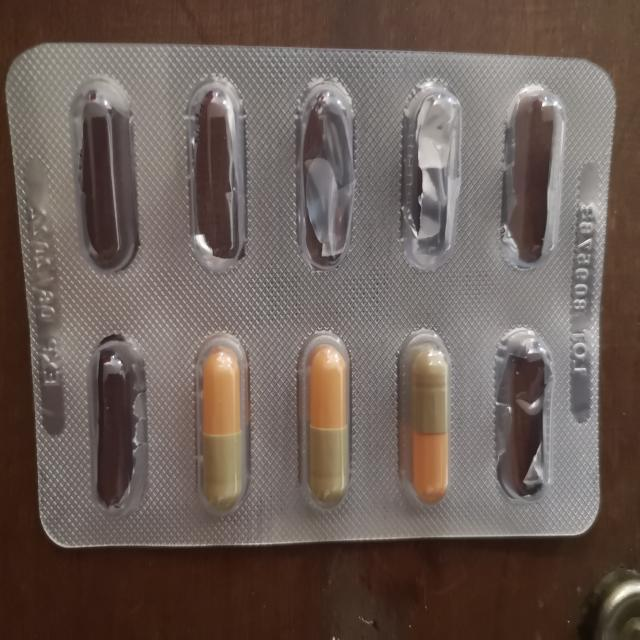Empty: (488, 322, 558, 508)
Pill: (386, 325, 464, 514), (290, 320, 364, 514), (191, 329, 263, 518)
